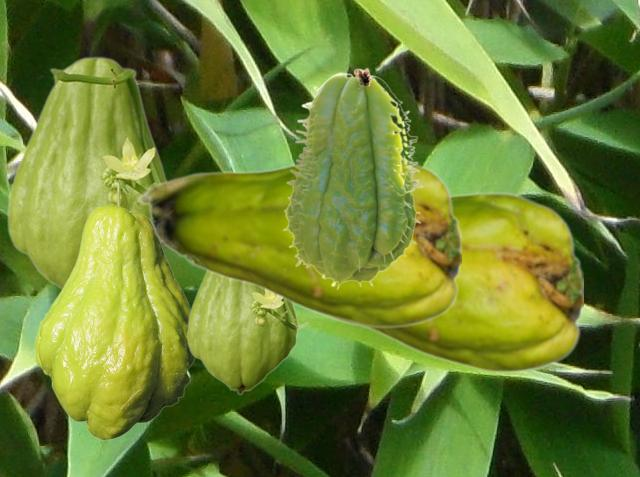sayote: (136, 159, 460, 328), (309, 191, 582, 373), (34, 179, 195, 439), (6, 56, 167, 289), (282, 67, 422, 289), (186, 272, 308, 394)
